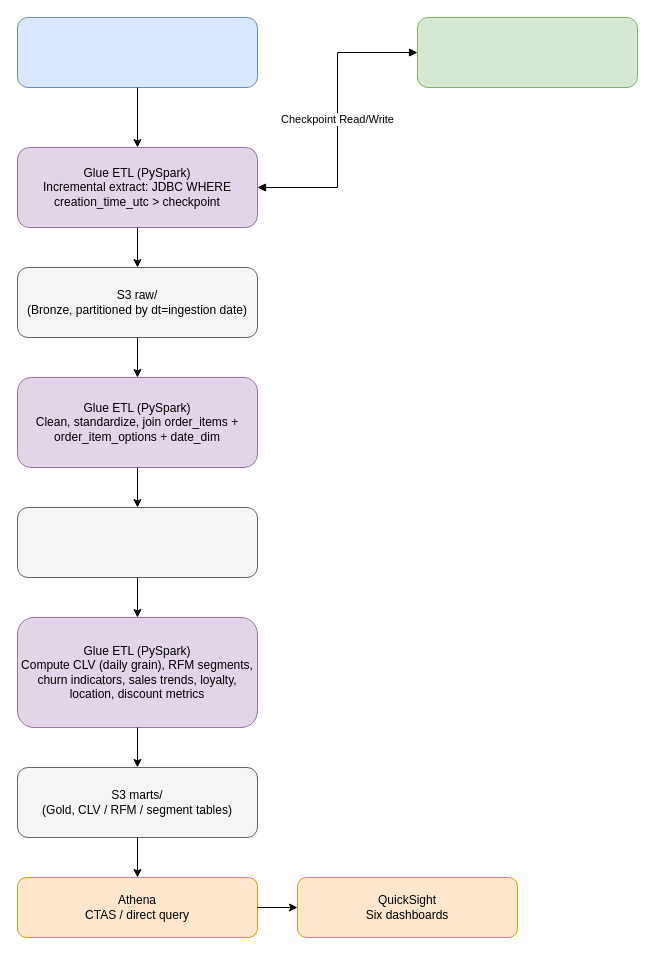
Image size: 655x955. Some labels were removed from this diagram. Each missing label, with the centre of its shape:
"RDS SQL Server (source, encrypted, SG restricted to dev IP)" goes at point (137, 52).
"S3 processed/ (Silver, cleaned and typed)" goes at point (137, 542).
"SSM Parameter Store (last extracted checkpoint timestamp)" goes at point (527, 52).
